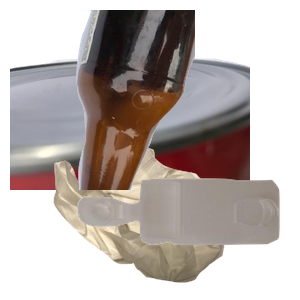glass: (60, 10, 300, 190)
metal: (10, 52, 250, 232)
plastic: (75, 176, 300, 300)
trash: (51, 142, 278, 300)
